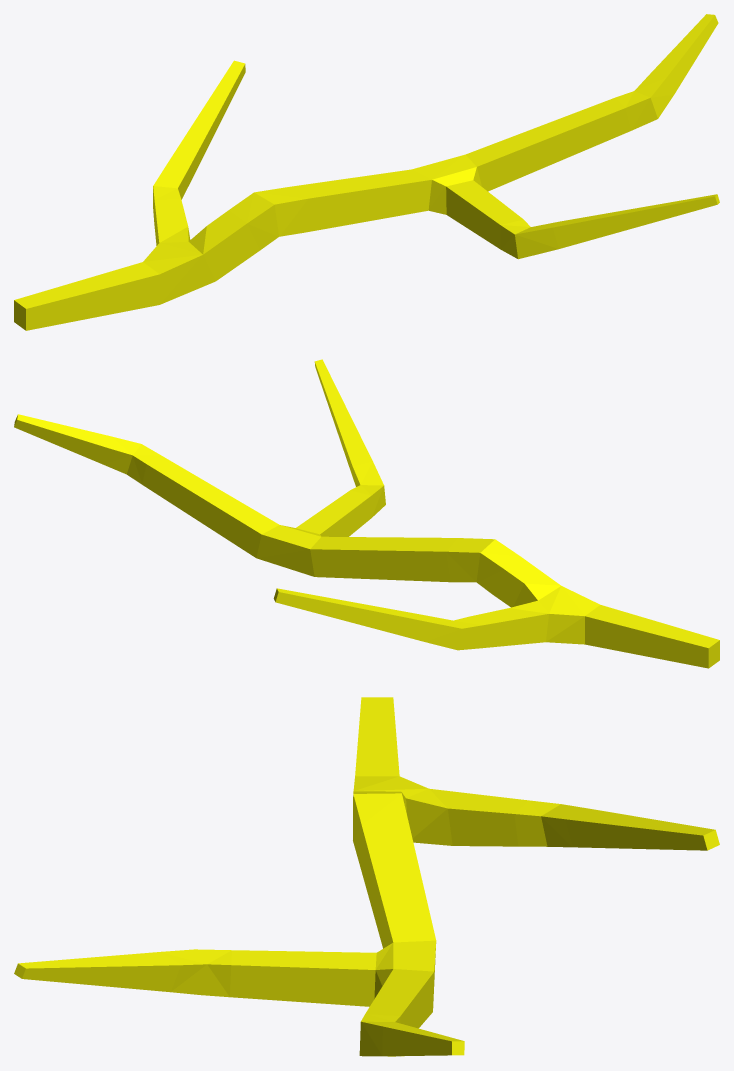
The model's file is branch01.glb.
3 renders of one model, top to bottom at view 1: azimuth 30°, elevation 25°; view 2: azimuth 150°, elevation 25°; view 3: azimuth 270°, elevation 25°, orthographic. The views are drawn at different scales.
Parts seen in each view (by area): view 1: branch01; view 2: branch01; view 3: branch01.
Part boxes in pixels (left/top/right/bottom): branch01: left=14, top=14, right=719, bottom=330; branch01: left=14, top=359, right=719, bottom=668; branch01: left=14, top=697, right=719, bottom=1056.
Size of the model in its own units: 6.08 by 0.9499 by 3.88.
1 material, 1 textured.
